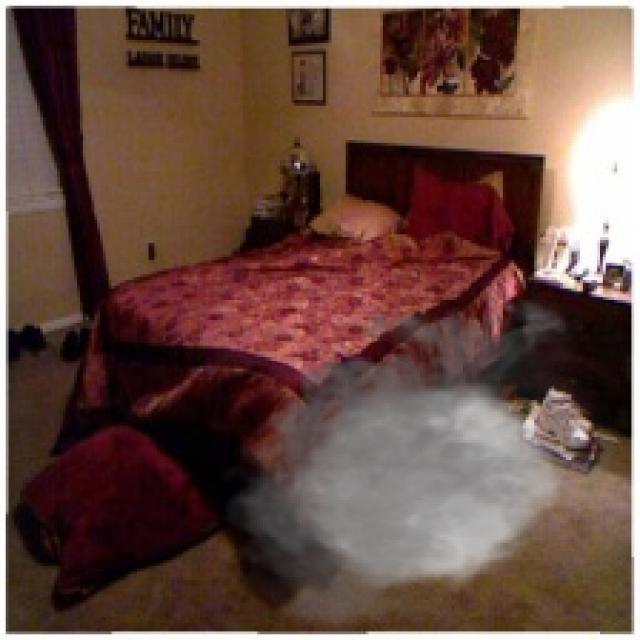Smoke: (211, 288, 640, 638)
